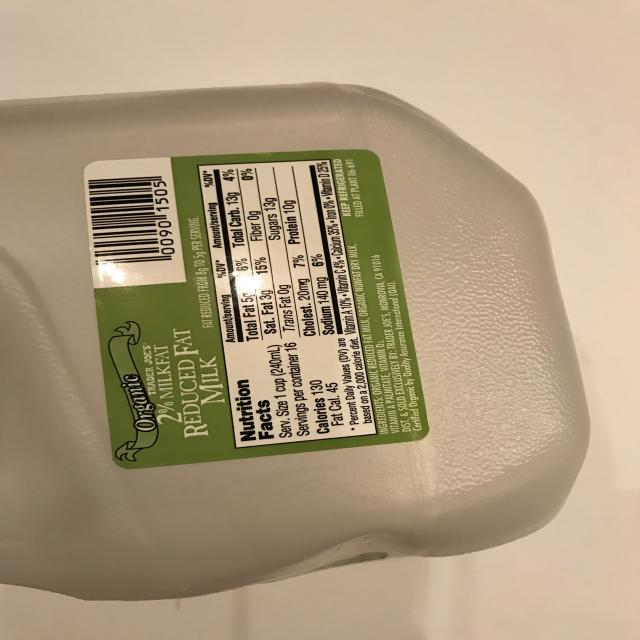Plastic: (0, 79, 640, 598)
